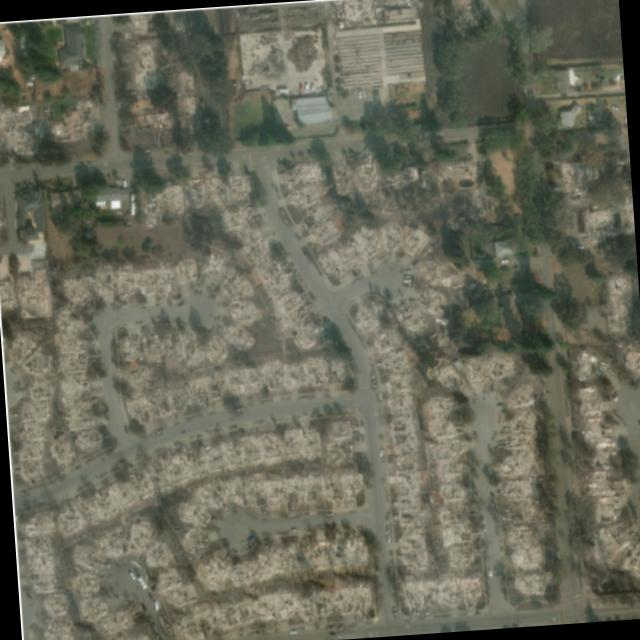damage: (348, 292, 486, 613), (71, 417, 368, 559), (112, 299, 348, 426), (282, 165, 428, 287), (575, 352, 640, 582), (198, 527, 369, 590), (55, 296, 106, 460), (201, 585, 372, 630), (65, 264, 176, 309), (490, 410, 542, 500), (14, 380, 50, 484), (583, 196, 634, 248), (235, 211, 274, 266), (71, 564, 106, 623), (24, 535, 56, 595), (183, 207, 223, 247), (370, 174, 373, 180)
old_road: (253, 158, 399, 620), (104, 387, 327, 457), (0, 163, 72, 257), (473, 507, 516, 629), (216, 511, 317, 548), (31, 456, 113, 499), (97, 18, 121, 157), (98, 310, 135, 377)
